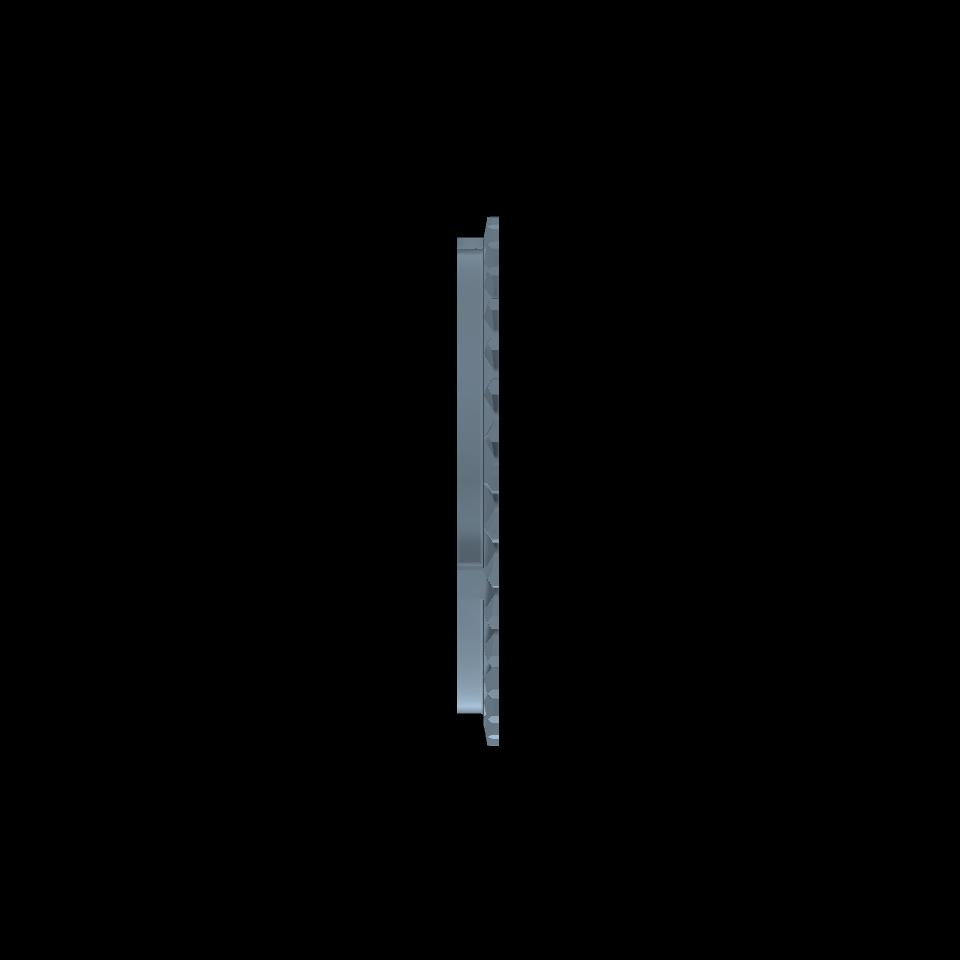Straight: (489, 219, 498, 745)
